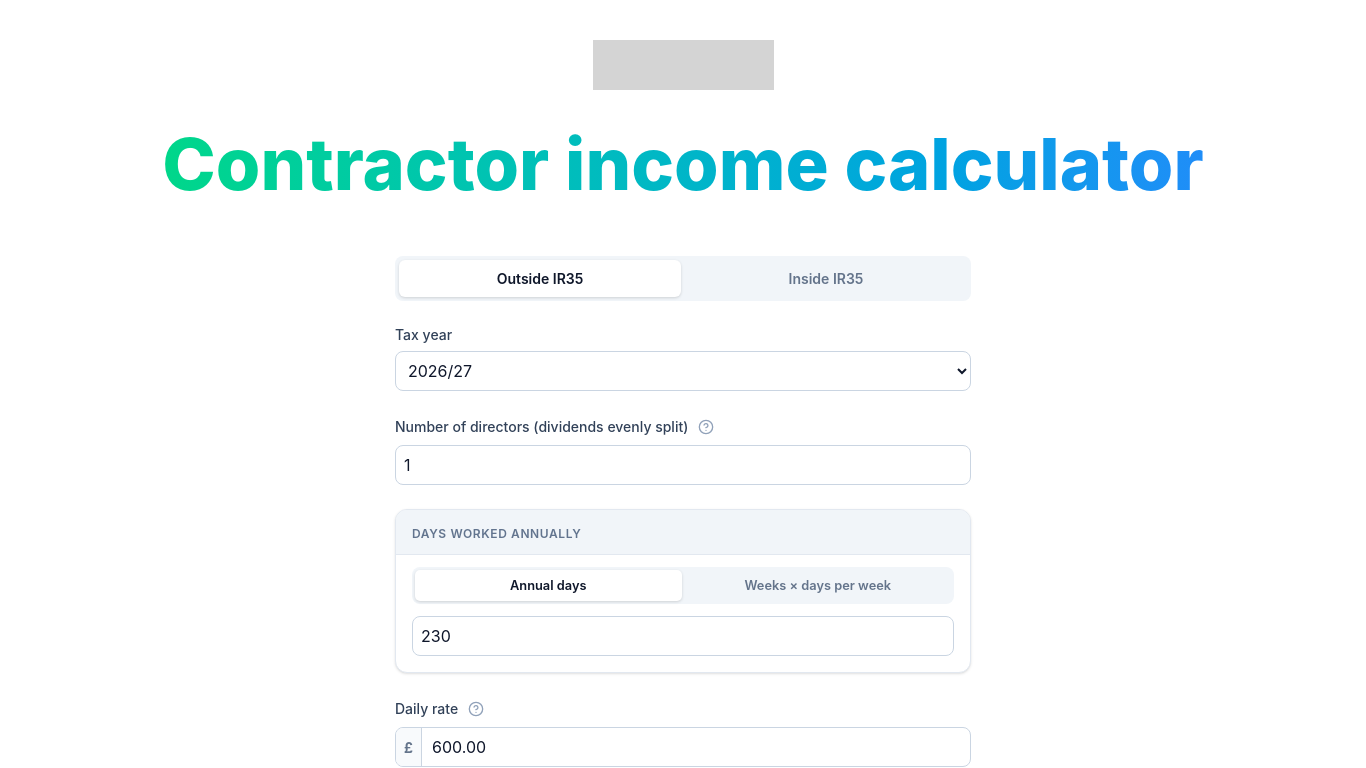
Test: inside IR35: gross contract value tooltip shows on hover
The width and height of the screenshot is (1366, 768).
Click the button "Inside IR35" at [826, 278], box [685,260,967,297]
(page scrolled)
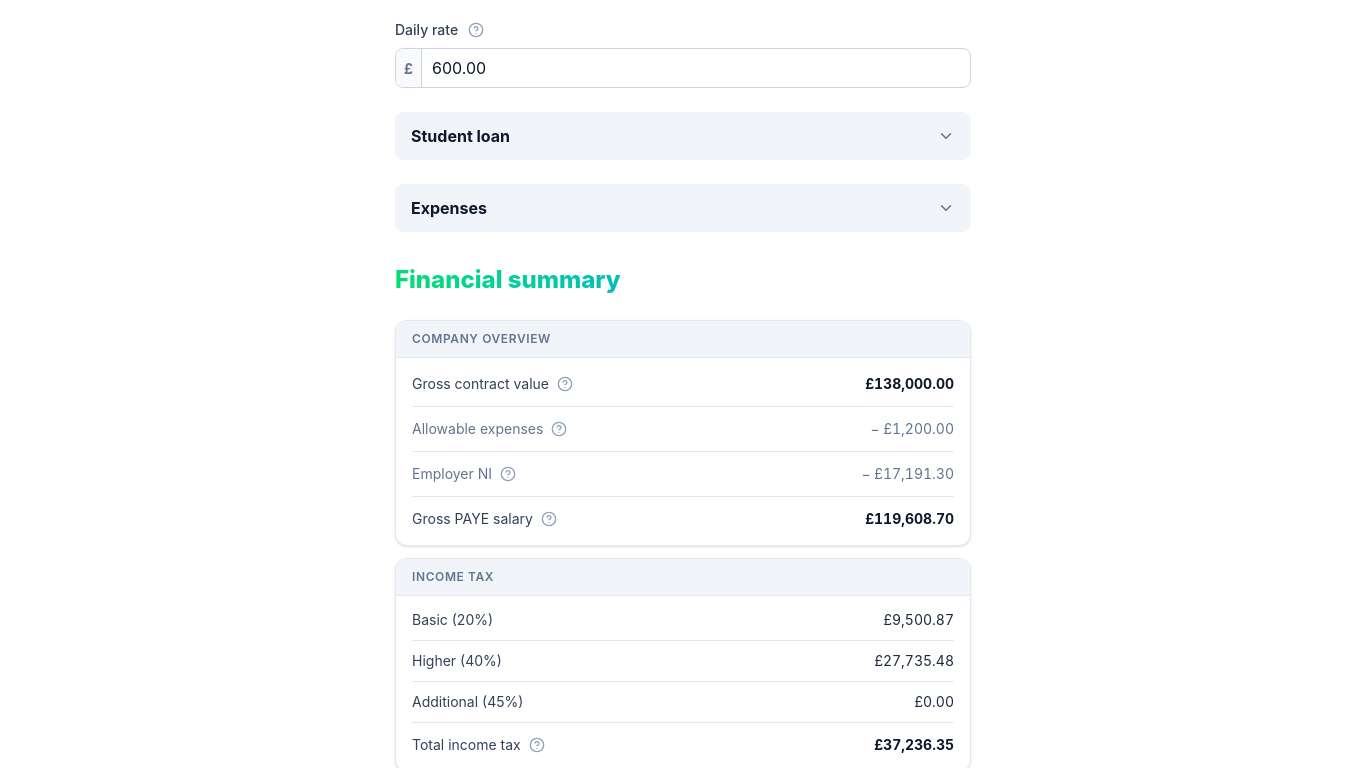
Hover over the button named "Gross contract value information" at [565, 384], box [553,372,577,396]
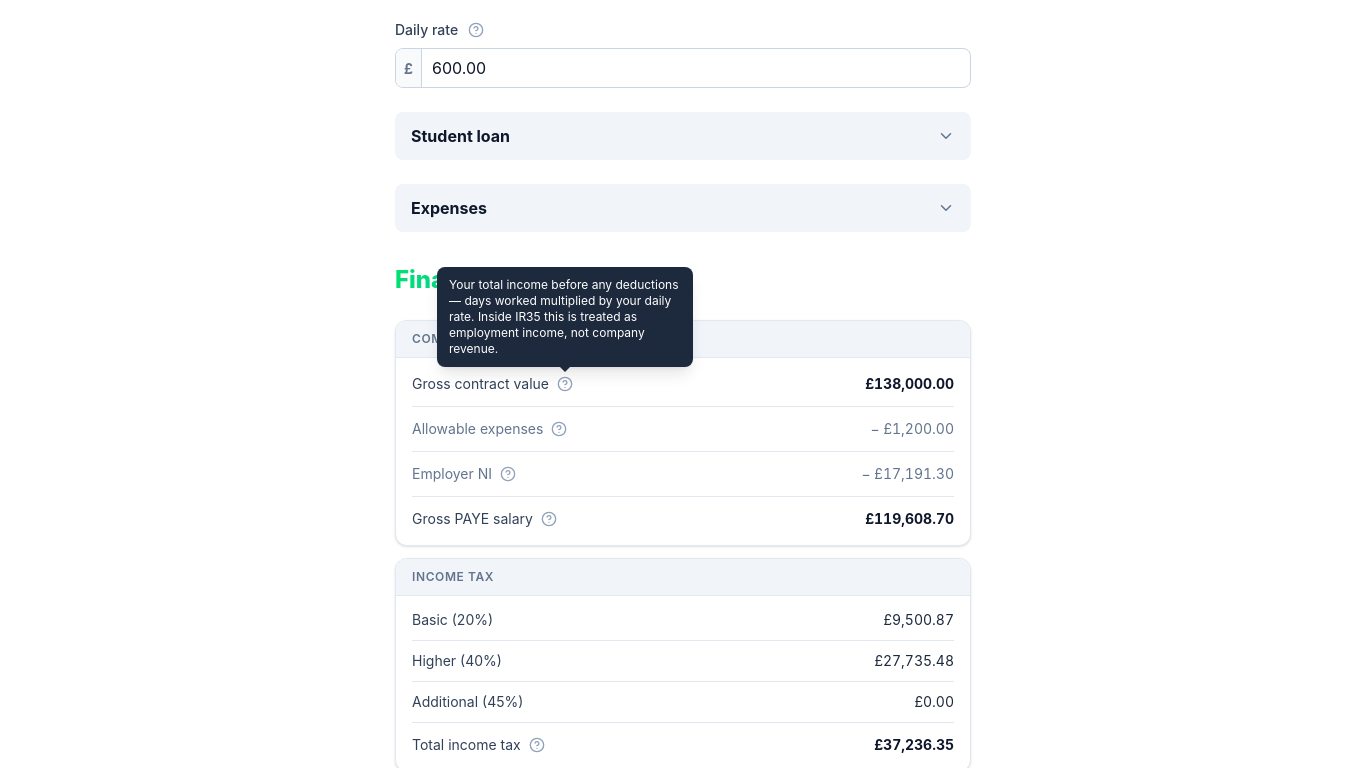
Now the tooltip is shown, box [437,267,693,367]
